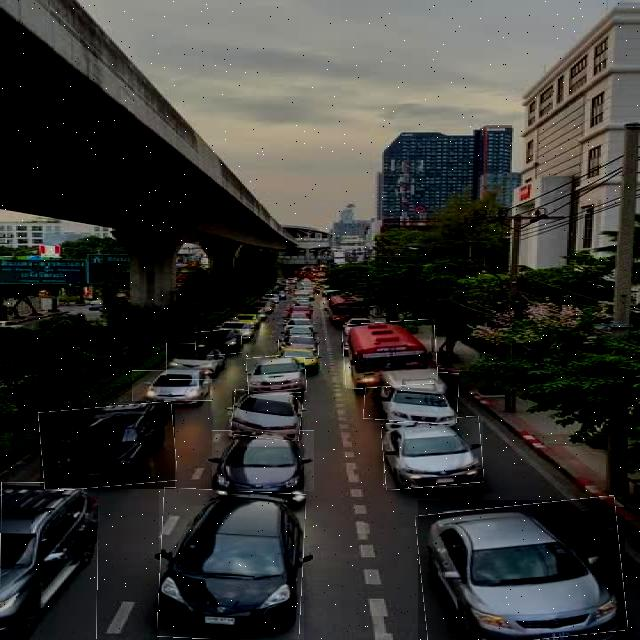Bus: (343, 320, 437, 388)
Car: (418, 500, 625, 640), (159, 489, 304, 640), (0, 482, 97, 640), (40, 404, 175, 489), (383, 418, 483, 488), (212, 430, 314, 491), (364, 369, 459, 422), (232, 391, 302, 440), (132, 370, 212, 401), (247, 355, 307, 395), (166, 344, 227, 380), (196, 330, 242, 356), (278, 336, 319, 358)
